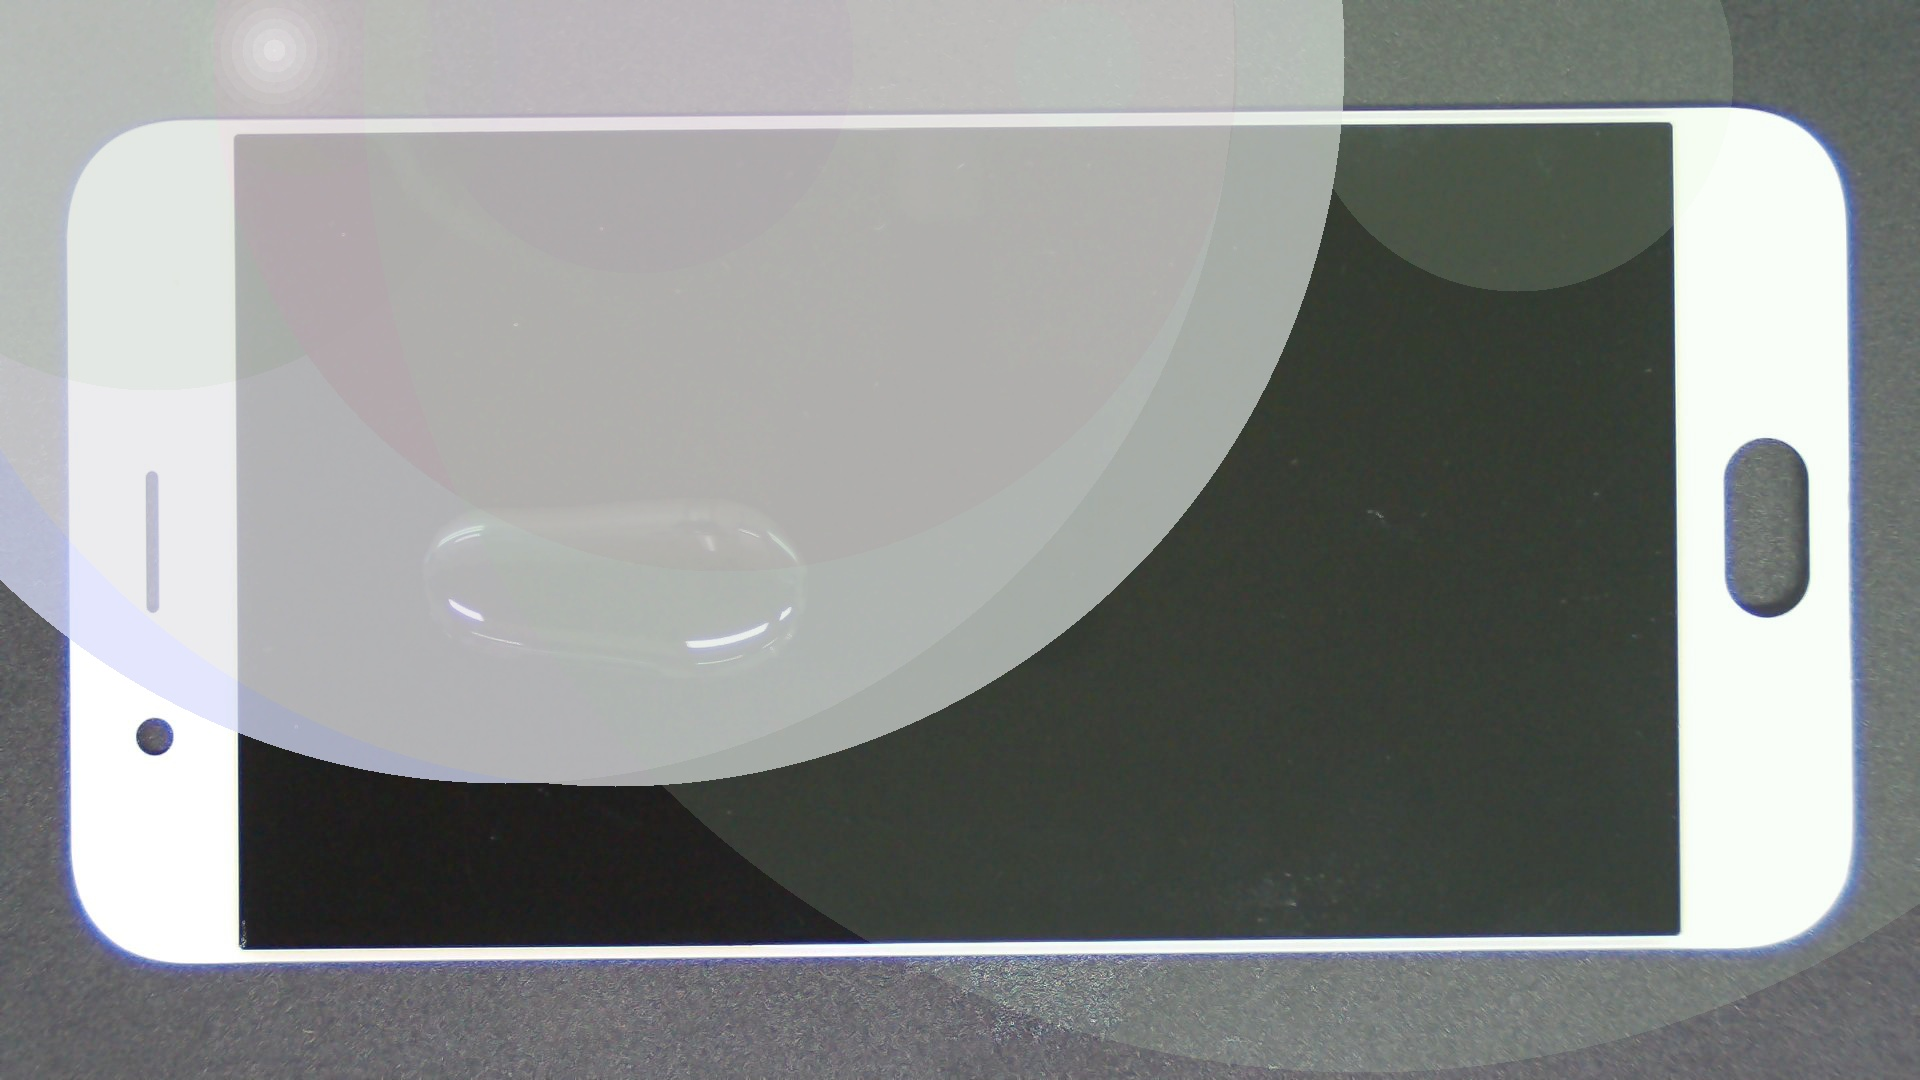oil: (338, 248, 1010, 748)
